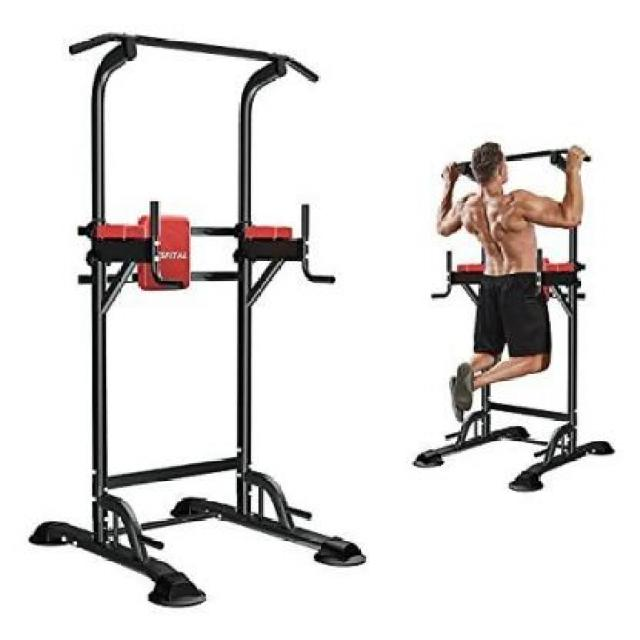chinning dipping: (29, 31, 369, 609)
